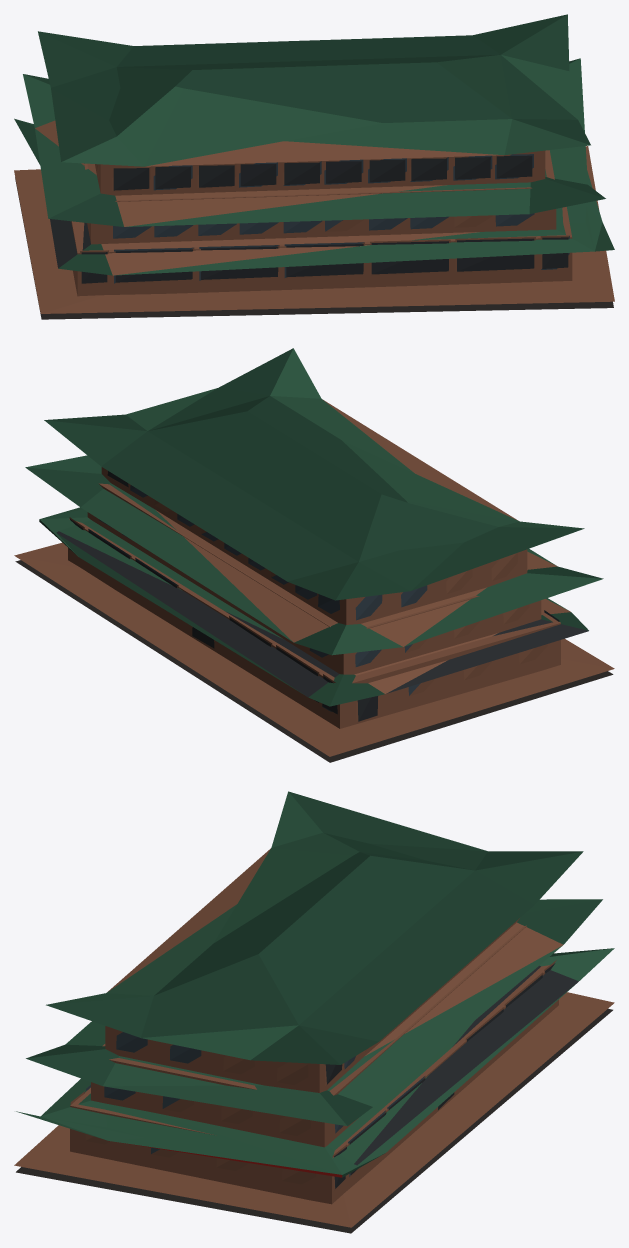
File: sea-palace.lod2.glb
3 renders of one model, top to bottom at view 1: azimuth 30°, elevation 25°; view 2: azimuth 150°, elevation 25°; view 3: azimuth 270°, elevation 25°, orthographic. The views are drawn at different scales.
Parts seen in each view (by area): view 1: lod2; view 2: lod2; view 3: lod2.
Part boxes in pixels (x1,y1,x2,y2): lod2: (14, 14, 614, 319); lod2: (14, 348, 614, 762); lod2: (14, 791, 614, 1233).
Size of the model in its own units: 45.59 by 13.2 by 38.6.
